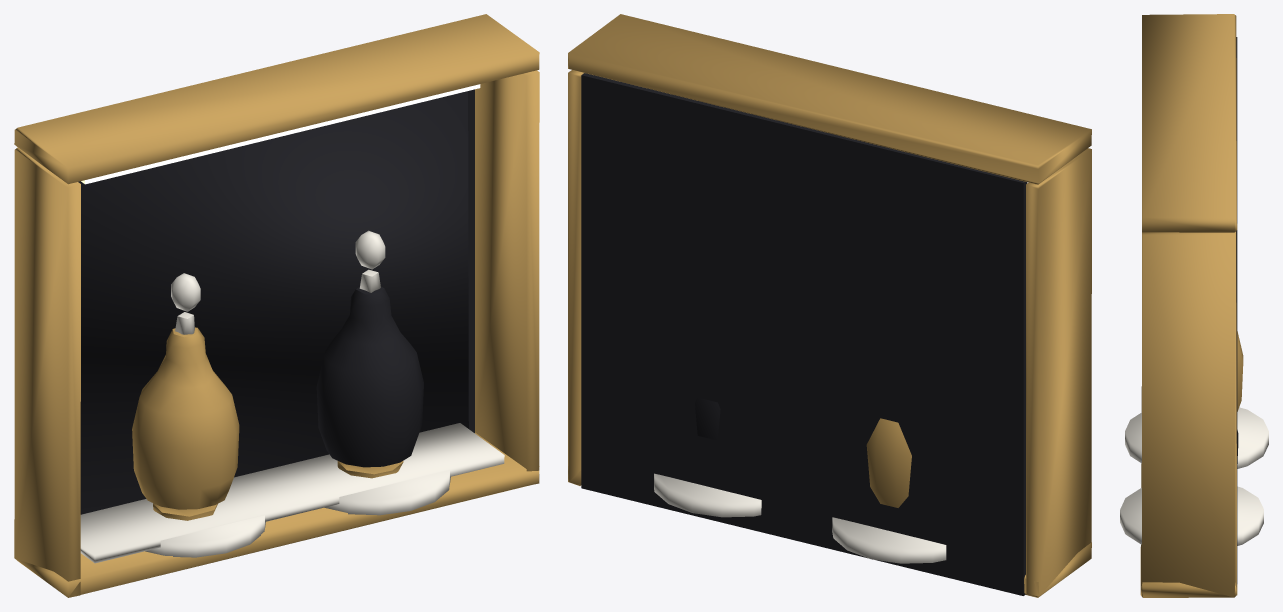
File: window_display_dress.glb
The picture shows the model from 3 angles, left to right: view 1: azimuth 30°, elevation 25°; view 2: azimuth 150°, elevation 25°; view 3: azimuth 270°, elevation 25°; orthographic projection. The views are drawn at different scales.
Visible parts, largest first — view 1: window_display_dress; view 2: window_display_dress; view 3: window_display_dress.
Part boxes in pixels (x1,y1,x2,y2): window_display_dress: (14,14,539,597); window_display_dress: (568,14,1091,597); window_display_dress: (1120,14,1268,597).
Bounding box in the file's own units: 2.99 × 2.62 × 0.9239.
